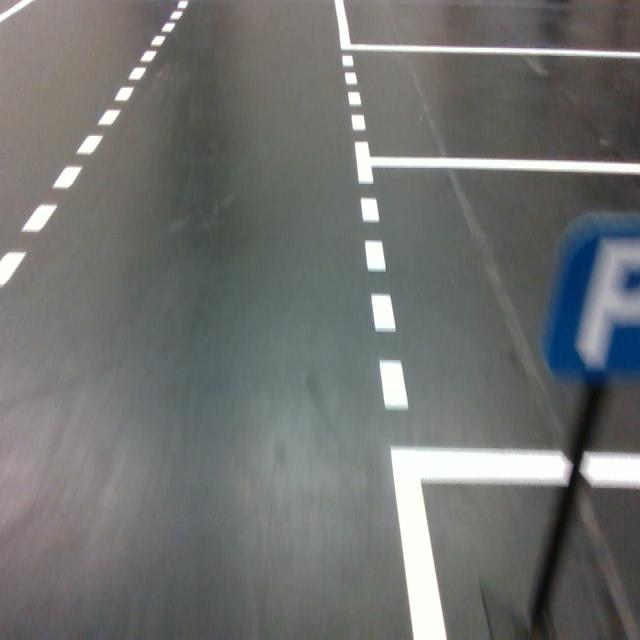parking-sign: (538, 210, 640, 386)
